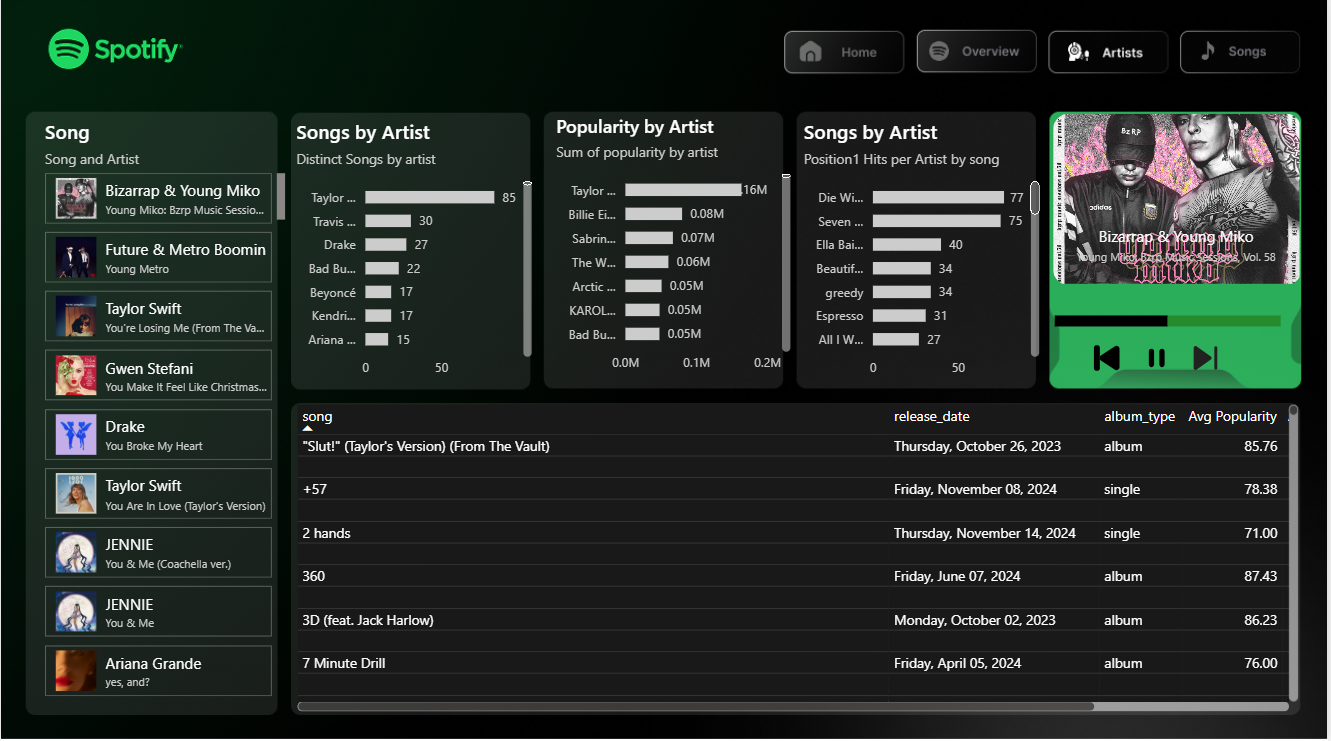

This screenshot's page, from the dashboard's own definition file:
{"tool":"powerbi","page":{"name":"Artist","canvas":[1280,720],"ordinal":2},"visuals":[{"type":"actionButton","box":[168.9,398.2,114.6,37.4],"z":0},{"type":"actionButton","box":[296.8,399.4,114.6,37.4],"z":1000},{"type":"actionButton","box":[425.9,398.2,114.6,37.4],"z":2000},{"type":"actionButton","box":[555,399.4,114.6,37.4],"z":3000},{"type":"actionButton","box":[178.9,408.2,114.6,37.4],"z":4000},{"type":"actionButton","box":[306.8,409.4,114.6,37.4],"z":5000},{"type":"actionButton","box":[435.9,408.2,114.6,37.4],"z":6000},{"type":"actionButton","box":[565,409.4,114.6,37.4],"z":7000},{"type":"actionButton","box":[188.9,418.2,114.6,37.4],"z":8000},{"type":"actionButton","box":[445.9,418.2,114.6,37.4],"z":9000},{"type":"actionButton","box":[575,419.4,114.6,37.4],"z":10000},{"type":"actionButton","box":[755.9,34.3,114.6,37.4],"z":11000},{"type":"actionButton","box":[888.1,33.8,114.6,35],"z":12000},{"type":"actionButton","box":[1012.9,34.3,114.6,37.4],"z":13000},{"type":"actionButton","box":[1142,35.5,114.6,37.4],"z":14000},{"type":"advancedSlicerVisual","title":"Song ","fields":{"Values":["Top-50-World.song"]},"box":[989.4,107.4,290.8,176.2],"z":15000},{"type":"hundredPercentStackedBarChart","fields":{"Y":["Avg(Top-50-World.popularity)","_Measures.Avg Popularity"]},"box":[1011.8,274.9,228.1,71.2],"z":16000},{"type":"image","box":[1142.6,334.2,40,30],"z":17000},{"type":"image","box":[1047.2,334.2,40,30],"z":18000},{"type":"image","box":[1094.9,334.2,40,30],"z":19000},{"type":"shape","box":[1013.1,106.4,243.7,270.9],"z":20000},{"type":"advancedSlicerVisual","title":"Song ","fields":{"Values":["Top-50-World.song"]},"box":[37.4,118.2,242.5,570.7],"z":23000},{"type":"tableEx","fields":{"Values":["Top-50-World.song","Top-50-World.release_date","Top-50-World.album_type","_Measures.Avg Popularity","_Measures.Avg Duration Minutes","_Measures.Max Popularity"]},"box":[279.6,389.6,977.2,305.5],"z":24000},{"type":"clusteredBarChart","title":"Songs by Artist","fields":{"Y":["_Measures.Distinct Songs"],"Category":["Top-50-World.artist"]},"box":[279.6,118.8,237.5,258.5],"z":26000},{"type":"clusteredBarChart","title":"Popularity by Artist","fields":{"Y":["Sum(Top-50-World.popularity)"],"Category":["Top-50-World.artist"]},"box":[530.6,113.8,236.3,258.5],"z":27000},{"type":"clusteredBarChart","title":"Songs by Artist","fields":{"Category":["Top-50-World.song"],"Y":["_Measures.Position1 Hits per Artist"]},"box":[769.4,118.8,237.5,258.5],"z":28000}]}

Visuals, with their boxes in screenshot pixels (x1, y1, x2, y2), scaled from the page's 1280x720 canvas onto the 1331x741 screenshot:
actionButton: bbox(176, 410, 295, 448)
actionButton: bbox(309, 411, 428, 450)
actionButton: bbox(443, 410, 562, 448)
actionButton: bbox(577, 411, 696, 450)
actionButton: bbox(186, 420, 305, 459)
actionButton: bbox(319, 421, 438, 460)
actionButton: bbox(453, 420, 572, 459)
actionButton: bbox(588, 421, 707, 460)
actionButton: bbox(196, 430, 316, 469)
actionButton: bbox(464, 430, 583, 469)
actionButton: bbox(598, 432, 717, 470)
actionButton: bbox(786, 35, 905, 74)
actionButton: bbox(923, 35, 1043, 71)
actionButton: bbox(1053, 35, 1172, 74)
actionButton: bbox(1188, 37, 1307, 75)
"Song " advancedSlicerVisual: bbox(1029, 111, 1330, 292)
hundredPercentStackedBarChart - Avg(Top-50-World.popularity) x _Measures.Avg Popularity: bbox(1052, 283, 1289, 356)
image: bbox(1188, 344, 1230, 375)
image: bbox(1089, 344, 1131, 375)
image: bbox(1139, 344, 1180, 375)
shape: bbox(1053, 110, 1307, 388)
"Song " advancedSlicerVisual: bbox(39, 122, 291, 709)
tableEx - Top-50-World.song x Top-50-World.release_date: bbox(291, 401, 1307, 715)
"Songs by Artist" clusteredBarChart: bbox(291, 122, 538, 388)
"Popularity by Artist" clusteredBarChart: bbox(552, 117, 797, 383)
"Songs by Artist" clusteredBarChart: bbox(800, 122, 1047, 388)
